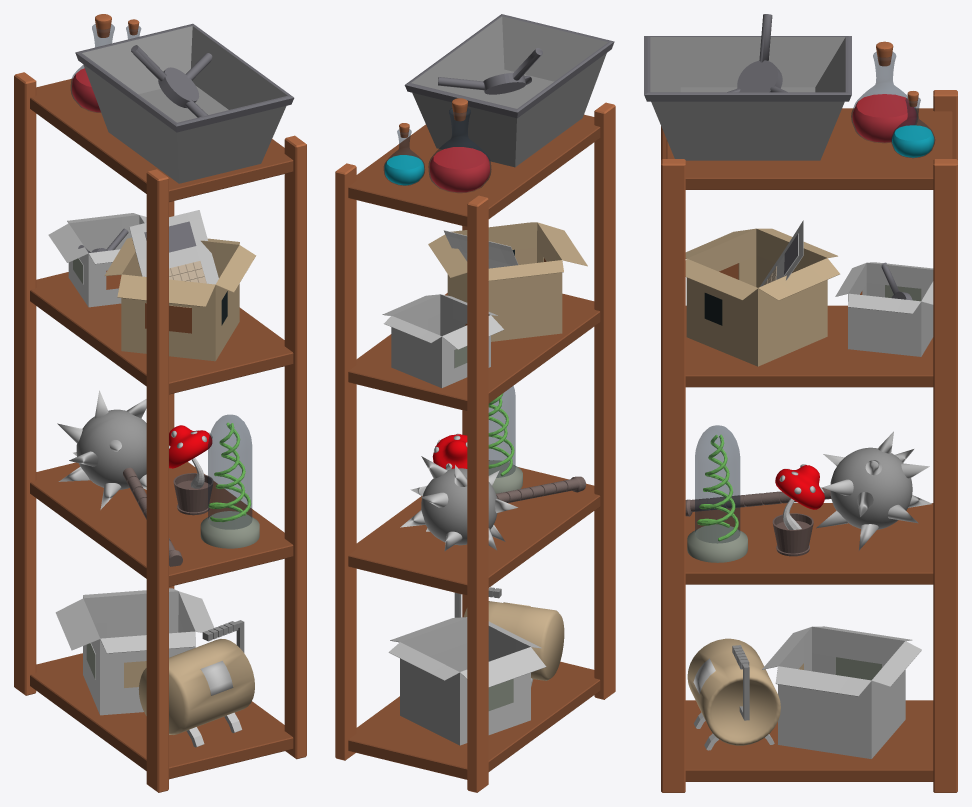
Rendered from Shelf.fbx.
The picture shows the model from 3 angles, left to right: view 1: azimuth 30°, elevation 25°; view 2: azimuth 150°, elevation 25°; view 3: azimuth 270°, elevation 25°; orthographic projection. The views are drawn at different scales.
Parts seen in each view (by area): view 1: Cube.100, Cube.089, Cube.088, Cube.087, Cube.092, Cube.095, Cube.091, Cube.093, Cube.098, Cube.096, Cube.094, Cylinder.022 (+6 smaller); view 2: Cube.100, Cube.088, Cube.089, Cube.090, Cube.092, Cube.095, Cube.098, Cube.094, Cube.091, Cube.093, Cube.099, Cylinder.022 (+7 smaller); view 3: Cube.100, Cube.087, Cube.090, Cube.098, Cube.095, Cube.092, Cube.091, Cube.094, Cube.093, Cylinder.022, Cube.096, Cube.099 (+7 smaller).
Part boxes in pixels (x1,y1,x2,y2): Cube.100: (75,23,294,183); Cube.089: (146,169,168,792); Cube.088: (14,72,36,695); Cube.087: (284,135,306,759); Cube.092: (30,462,293,586); Cube.095: (55,588,214,715); Cube.091: (30,653,293,779); Cube.093: (30,272,293,394); Cube.098: (104,237,256,361); Cube.096: (138,620,254,747); Cube.094: (30,78,293,201); Cylinder.022: (57,390,182,566); Cube.100: (404,14,614,167); Cube.088: (467,195,488,792); Cube.089: (594,102,615,699); Cube.090: (335,163,356,760); Cube.092: (348,460,600,595); Cube.095: (388,617,546,745); Cube.098: (428,222,587,341); Cube.094: (348,114,600,226); Cube.091: (348,661,600,779); Cube.093: (348,293,600,411); Cube.099: (382,294,504,387); Cylinder.022: (400,456,585,551); Cube.100: (644,36,851,160); Cube.087: (661,159,685,792); Cube.090: (933,159,957,792); Cube.098: (685,228,839,366); Cube.095: (762,626,921,758); Cube.092: (685,503,933,584); Cube.091: (685,700,933,781); Cube.094: (666,108,952,189); Cube.093: (685,305,933,387); Cylinder.022: (685,431,932,550); Cube.096: (687,638,780,750); Cube.099: (835,262,933,356).
Size of the model in its own units: 68 by 292 by 115.
